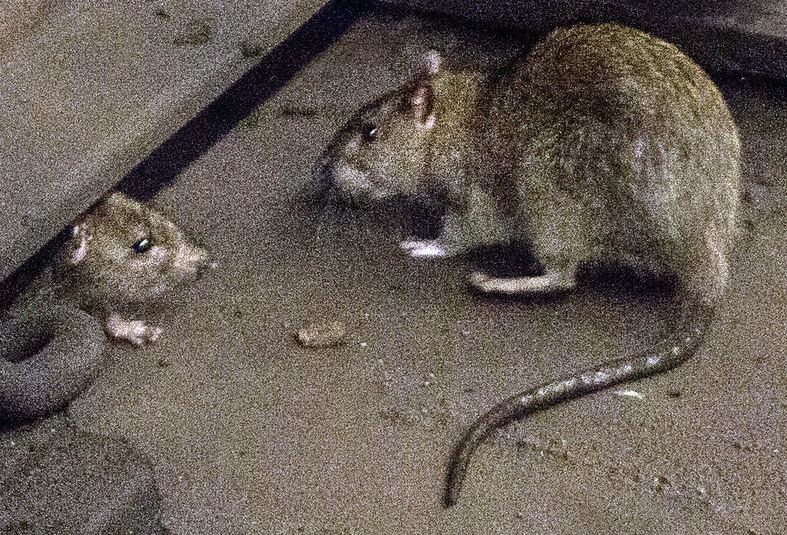rat: (288, 11, 752, 516), (36, 169, 249, 372)
